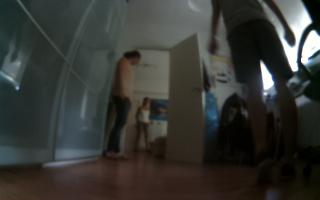person: (204, 1, 305, 192), (107, 45, 140, 161), (134, 92, 153, 158)
